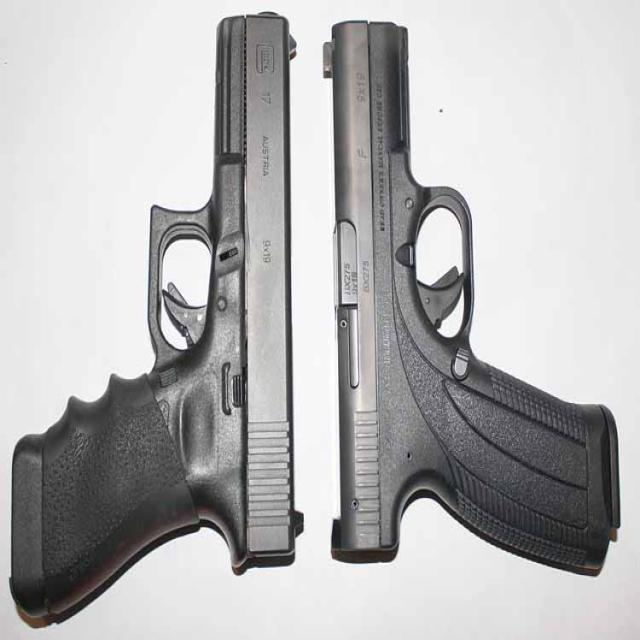Gun: (7, 7, 309, 634), (320, 12, 628, 620)
